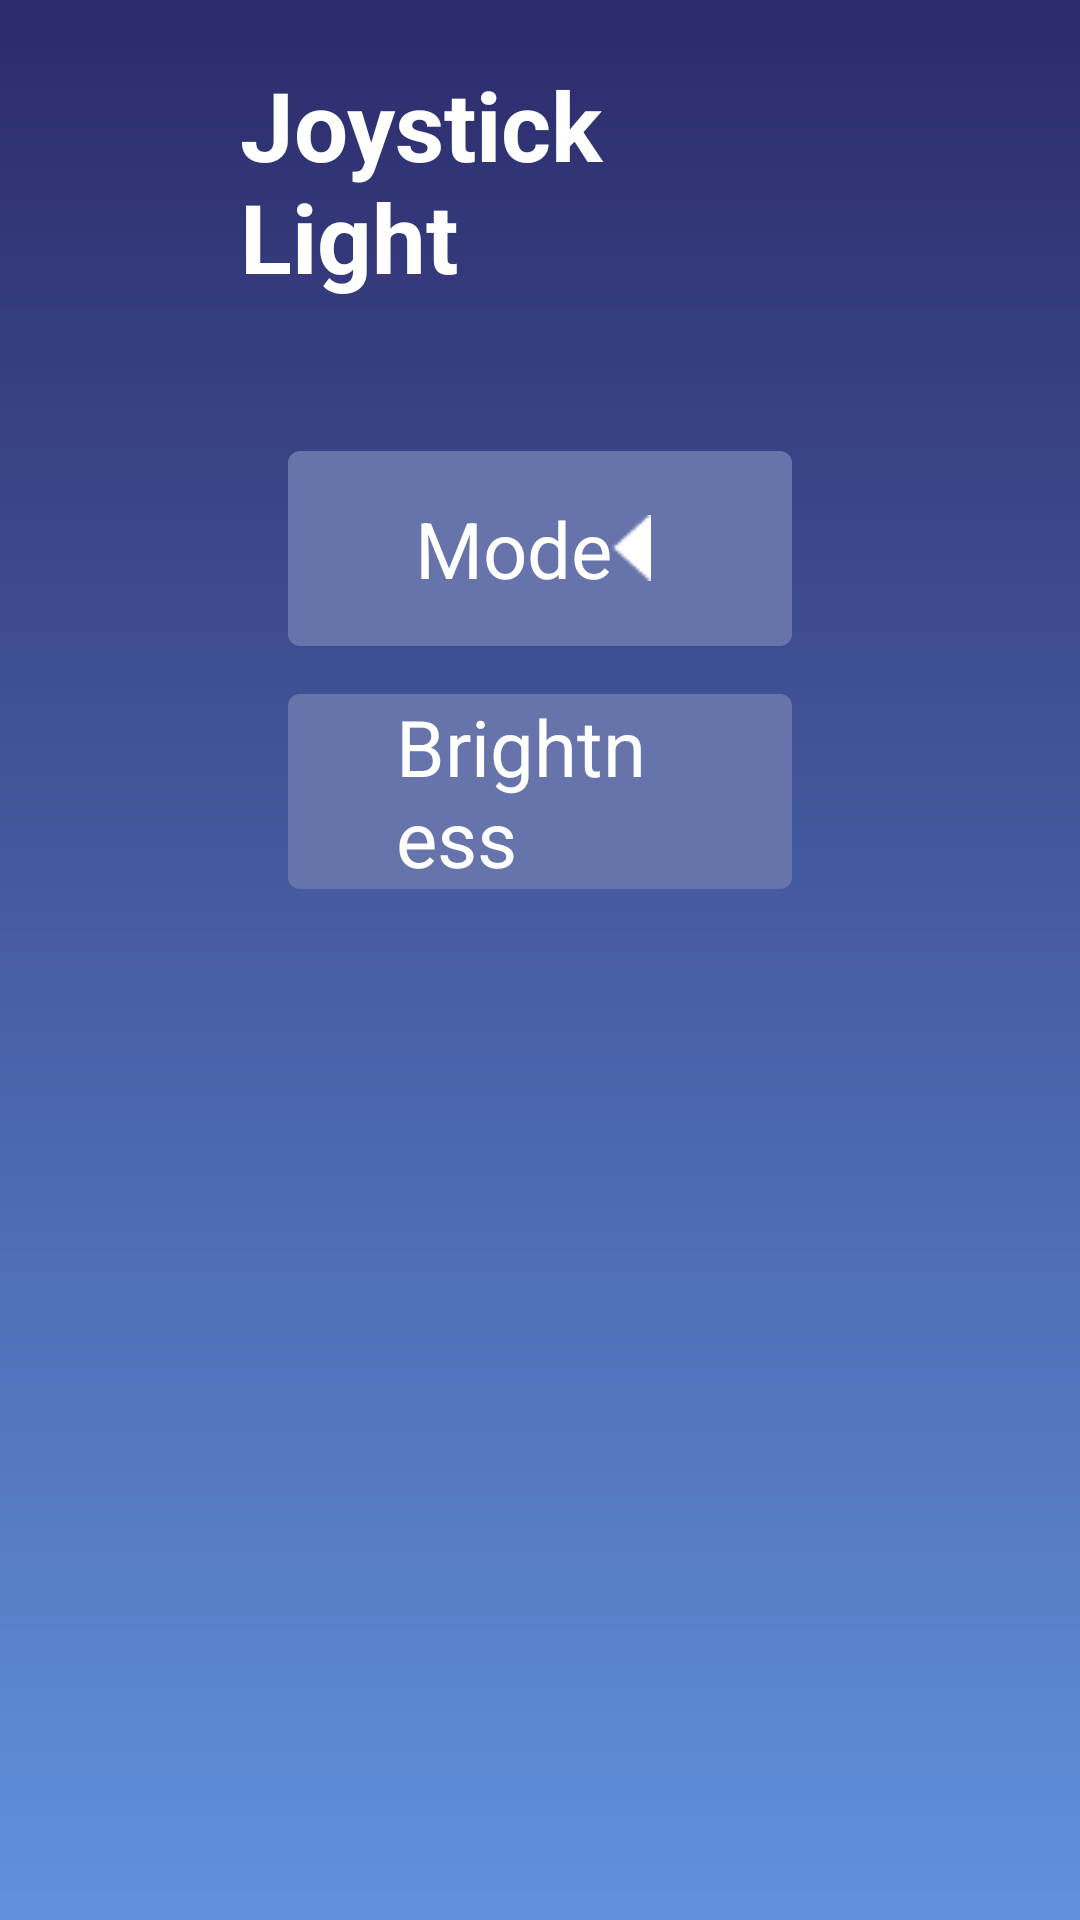

Point at icon controls on the screen. Image size 1080x1920, points as point (x, y).
arrow left: point (631, 548)
